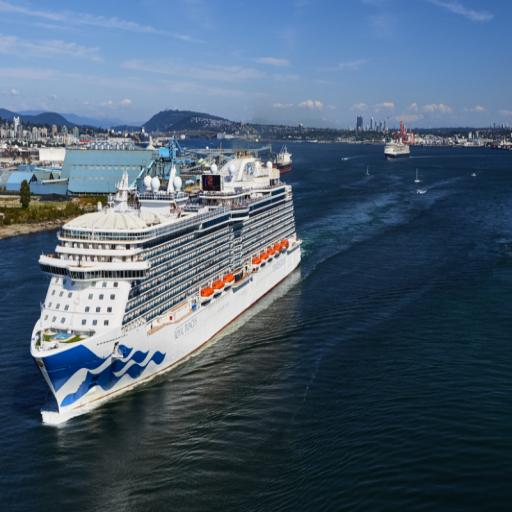cruises: (30, 131, 312, 426), (381, 130, 413, 165)
